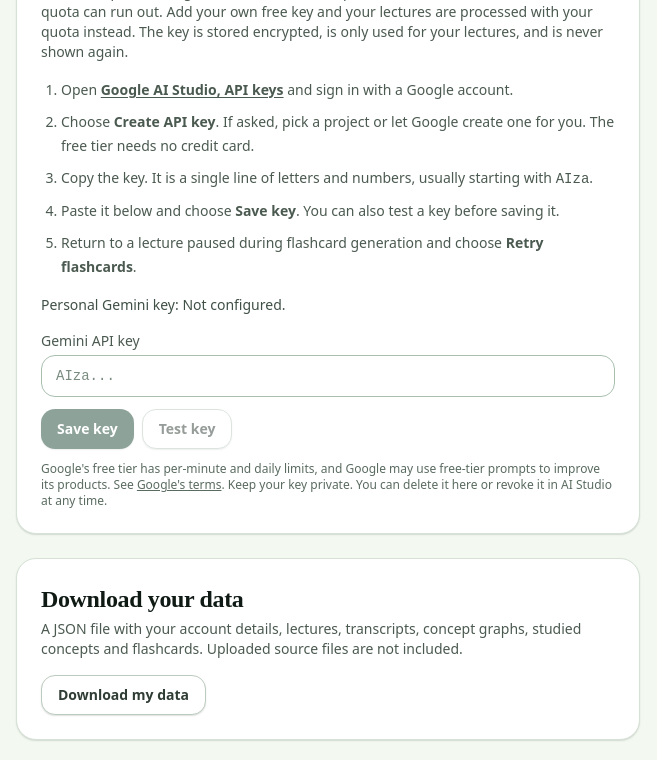
Settings page › tests a candidate Gemini key without saving or showing it
(page scrolled)
In the password field labelled "Gemini API key": (328, 376) [41,355,615,397], type "AIza-test-key-0000000000wxyz"
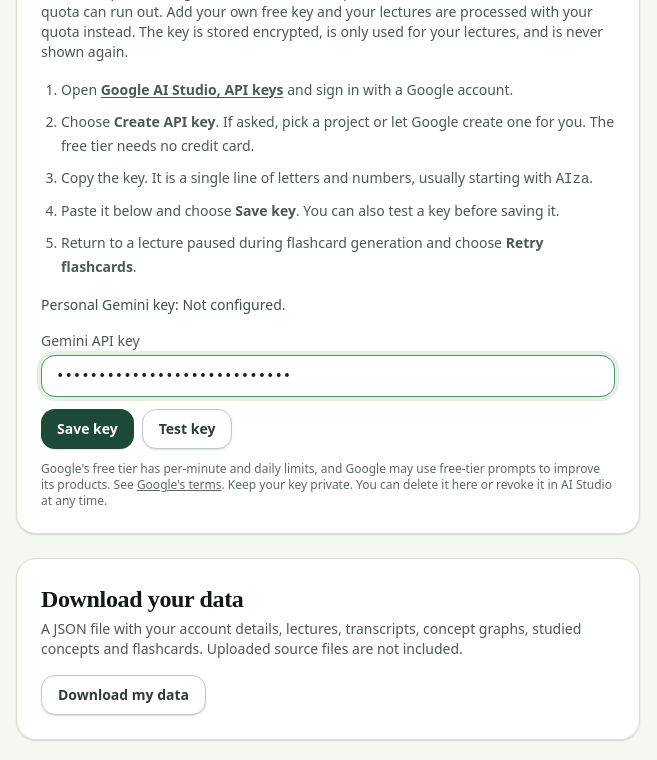
Click the button "Test key": (187, 429) [142,409,232,449]
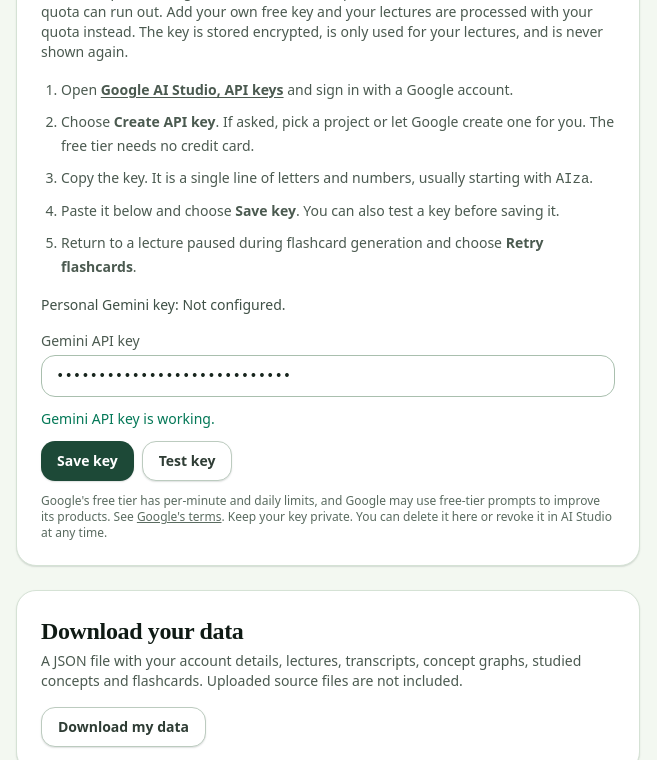
Now the text "Gemini API key is working." is shown, box [41,409,215,428]
